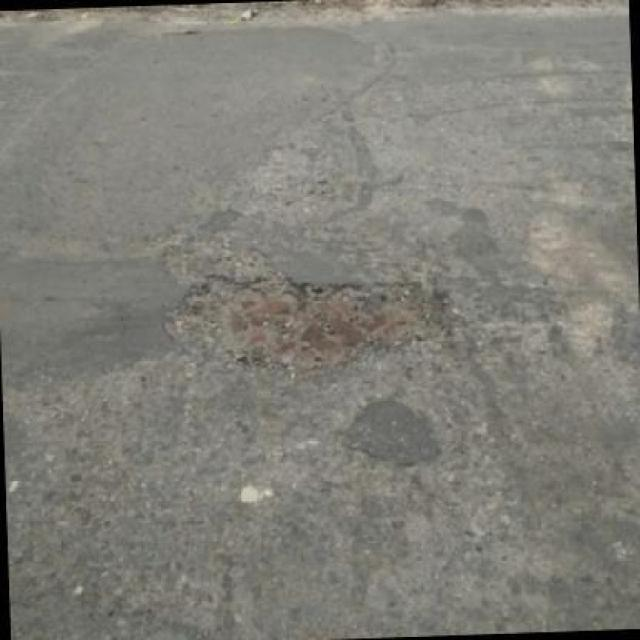pothole: (174, 272, 446, 369)
